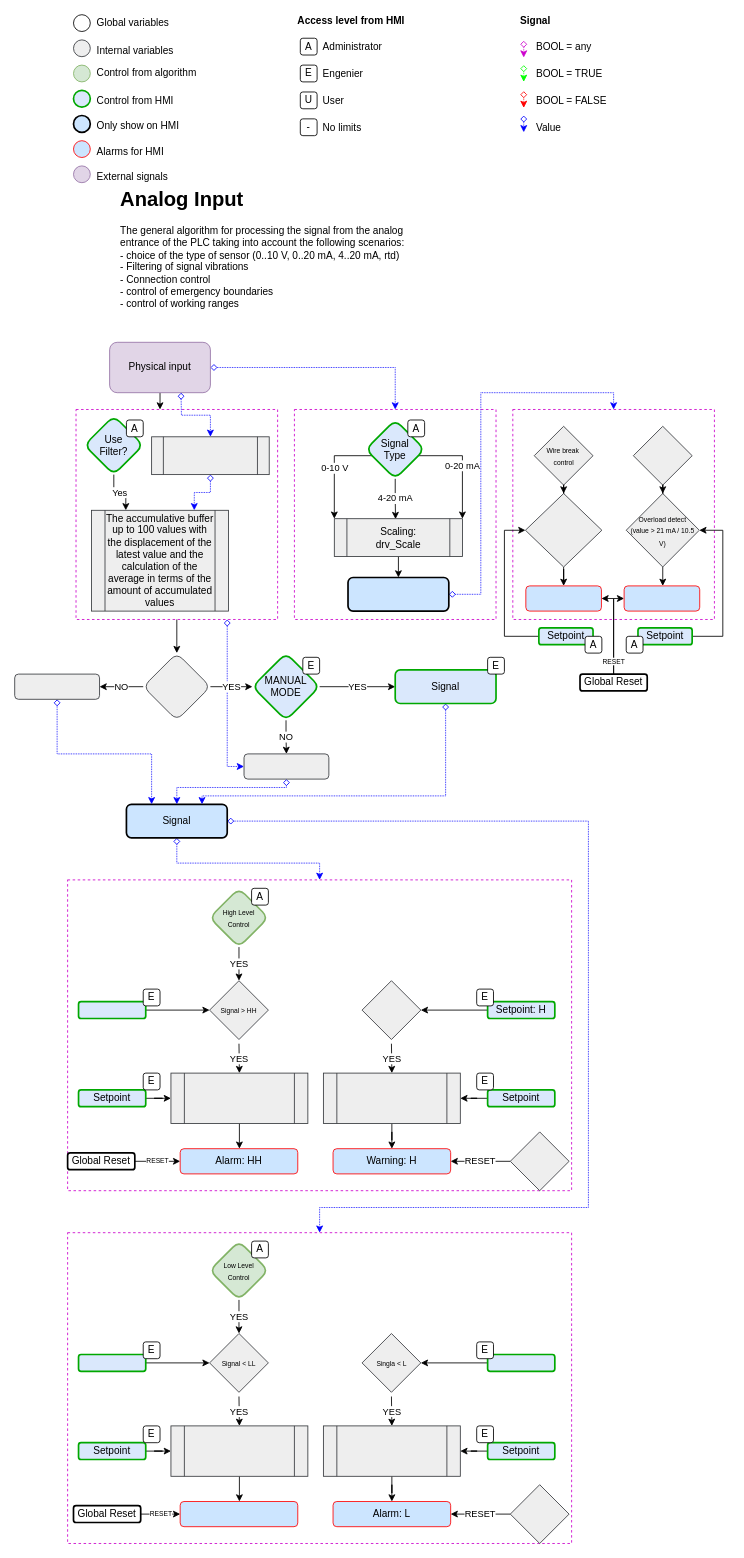
The diagram is 744 pixels wide and 1558 high, and some of its shapes have lost their labels. Here are the shapes that lost their labels. From the top down, the centre of each, then its label:
At [210,455]: "Smart Scaling: drv_Converter".
At [662,455]: "Overload control".
At [563,530]: "Break detected (value < 3.7 mA)".
At [398,594]: "Indication physical value".
At [563,598]: "Alarm: NC".
At [661,598]: "Alarm: OL".
At [57,686]: "Always 0.0".
At [176,686]: "AUTO MODE".
At [286,766]: "Processed signal".
At [111,1009]: "Setpoint: HH".
At [391,1010]: "Signal > H".
At [239,1098]: "Timer delay in the accident of the high emergency border".
At [391,1098]: "Timer delay in the accident of the high warning border".
At [539,1161]: "Signal < H".
At [111,1362]: "Setpoint: LL".
At [520,1362]: "Setpoint: L".
At [239,1450]: "Timer delay in the accident of the low emergency border".
At [391,1450]: "Timer delay in the accident of the low warning border".
At [238,1514]: "Alarm: LL".
At [539,1514]: "Signal > L".
